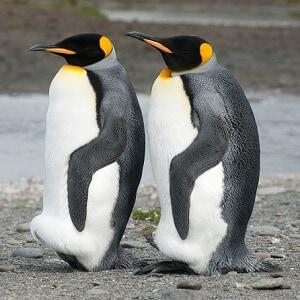king: (124, 22, 282, 288), (16, 18, 148, 273)
